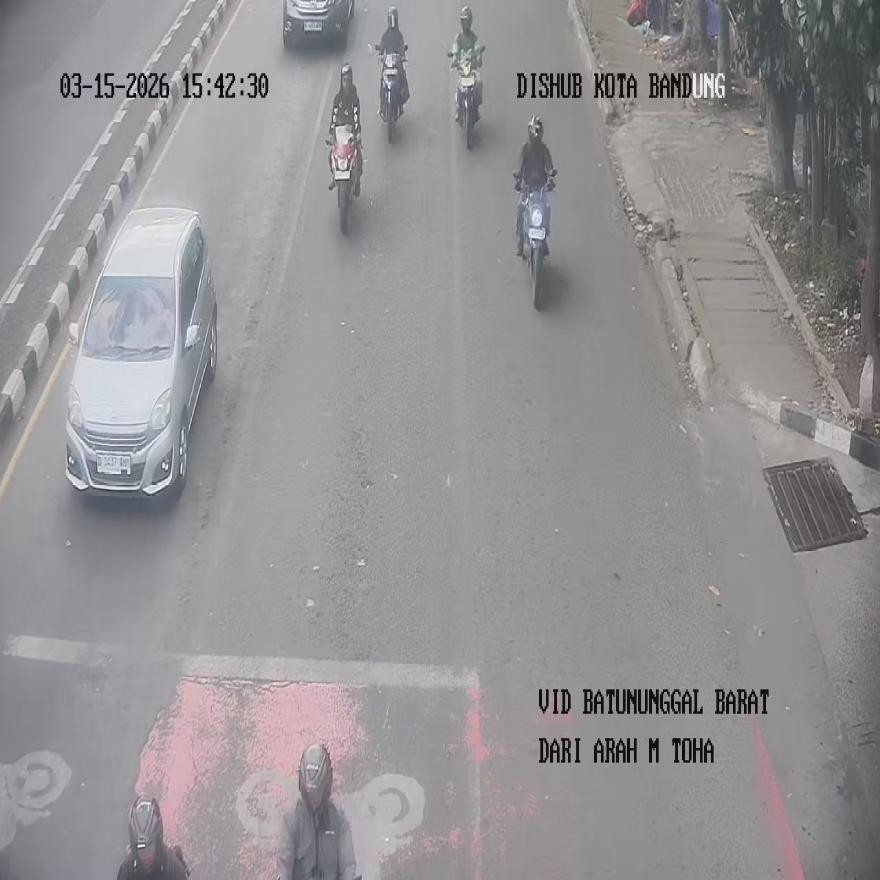Motor: (65, 206, 218, 499), (283, 0, 354, 49)
Truk: (117, 794, 190, 879), (515, 169, 555, 308), (326, 63, 362, 190), (326, 123, 360, 233), (450, 45, 483, 149), (373, 44, 407, 142)
